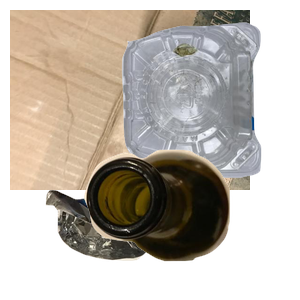cardboard: (10, 10, 250, 190)
glass: (82, 147, 300, 300)
plastic: (119, 20, 300, 190)
trash: (43, 187, 234, 300)
